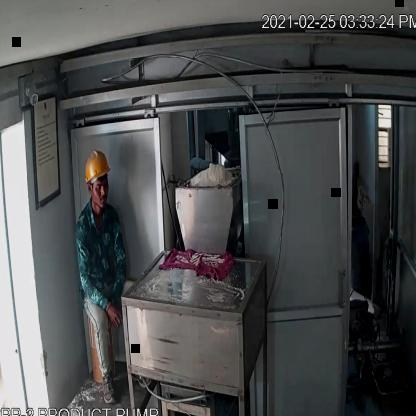helmet: (81, 144, 115, 192)
